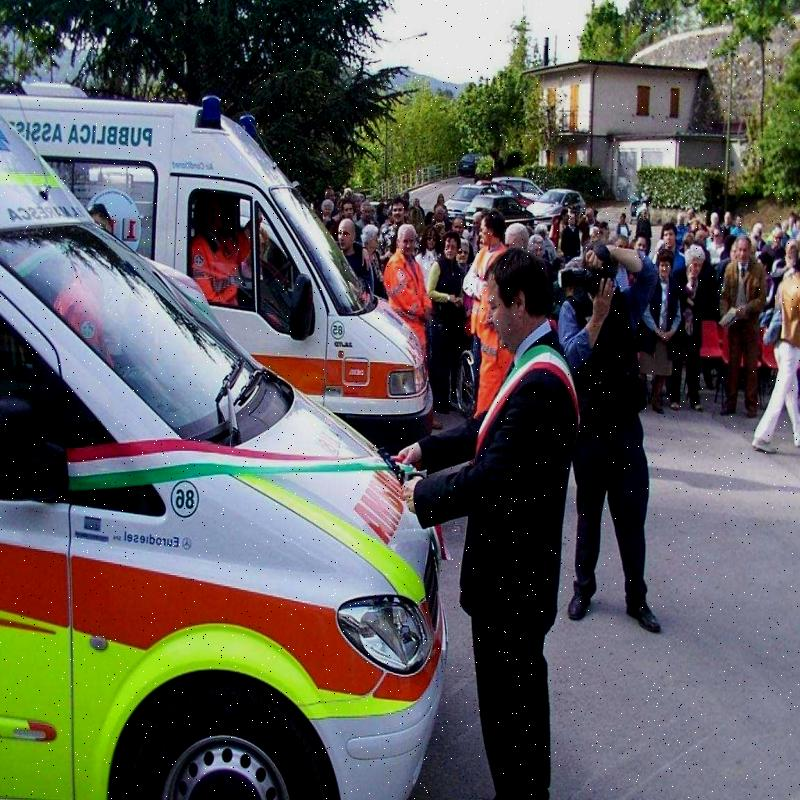AmbulanceSiren: (196, 95, 257, 155)
